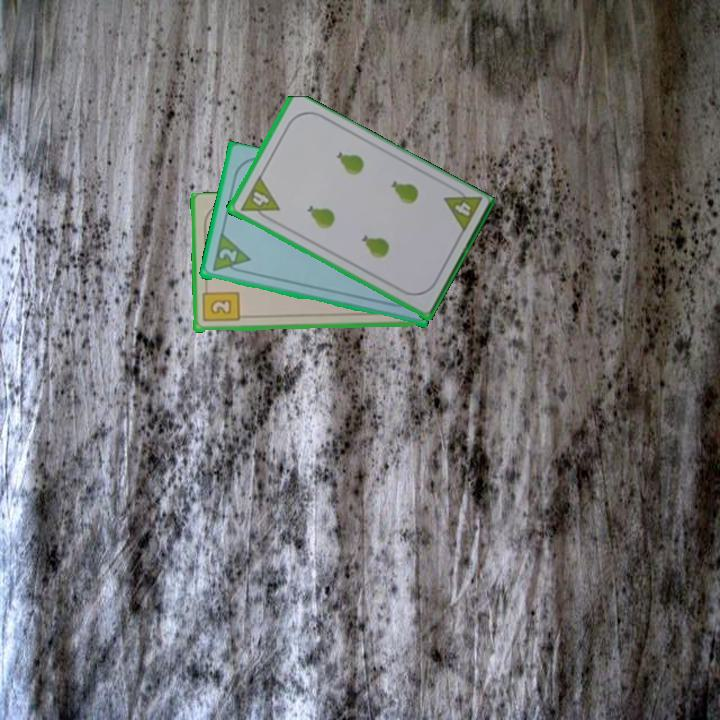2b: (199, 283, 241, 325)
2p: (215, 245, 240, 265)
4p: (440, 182, 485, 236), (237, 173, 282, 225)
